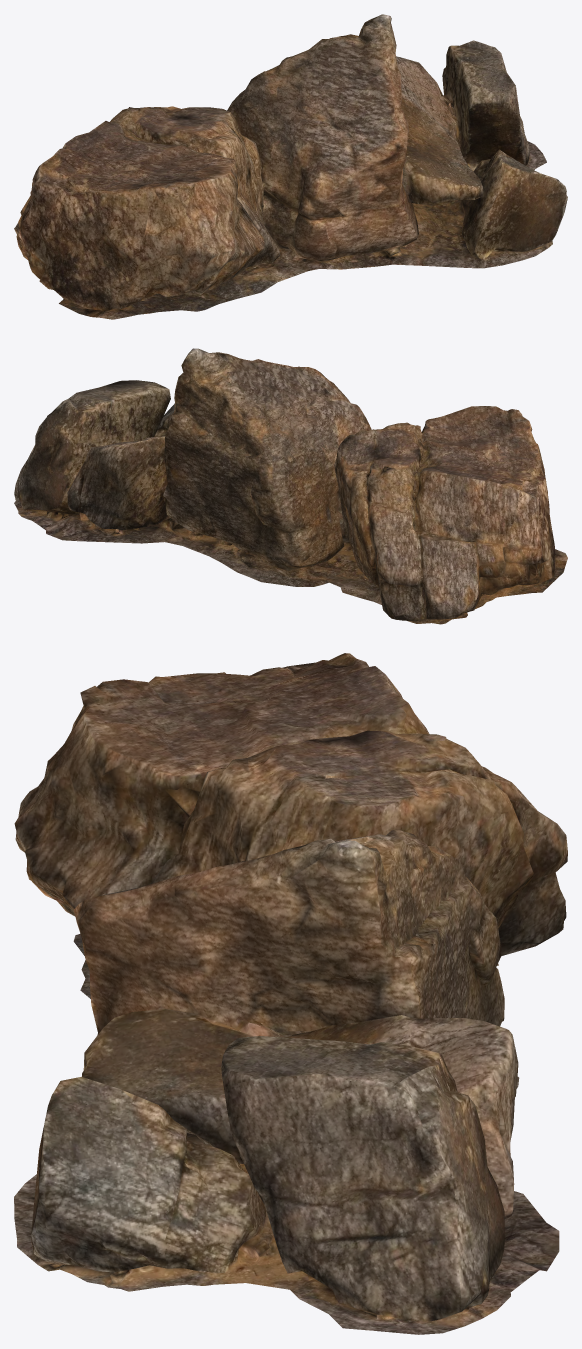
3 views of the same model, one above another, from view 1: azimuth 30°, elevation 25°; view 2: azimuth 150°, elevation 25°; view 3: azimuth 270°, elevation 25° (orthographic). The views are drawn at different scales.
Visible parts, largest first — view 1: boulder_02; view 2: boulder_02; view 3: boulder_02.
Boxes of the visible parts, box(x1,y1,x2,y2) form: boulder_02: box(14, 14, 567, 319); boulder_02: box(14, 348, 567, 624); boulder_02: box(14, 653, 567, 1334).
Bounding box in the file's own units: 2.53 × 0.8804 × 1.23.
1 material, 1 textured.
